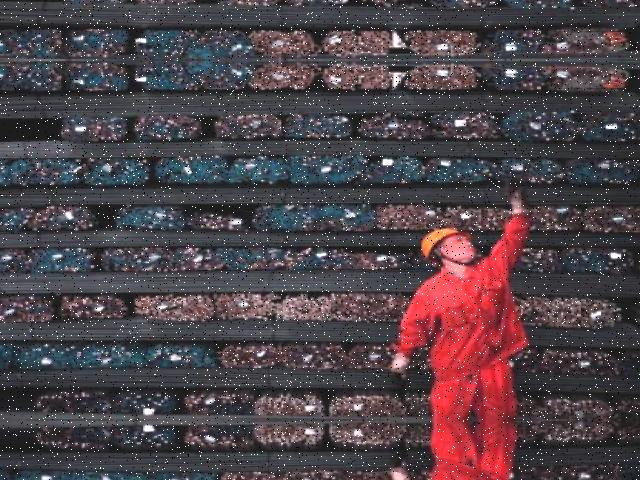Helmet: (412, 225, 471, 263)
